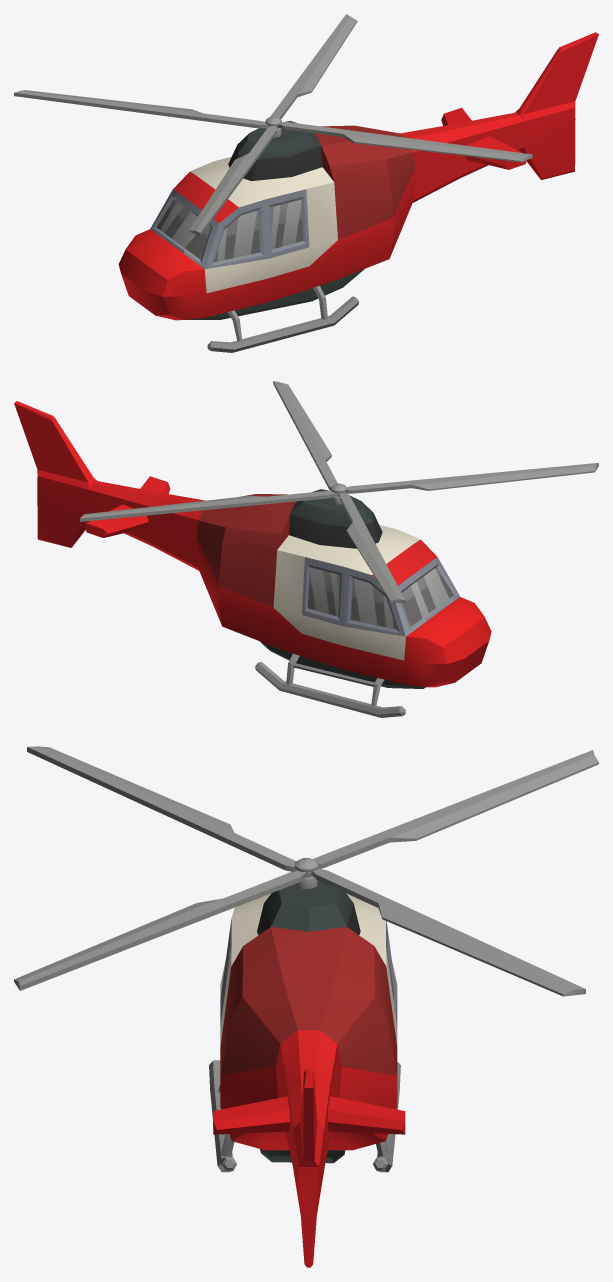
The model's file is Helicopter_2_B.fbx.
3 views of the same model, one above another, from view 1: azimuth 30°, elevation 25°; view 2: azimuth 150°, elevation 25°; view 3: azimuth 270°, elevation 25° (orthographic). The views are drawn at different scales.
Parts seen in each view (by area): view 1: Helicopter_2_B, Rotator_main; view 2: Helicopter_2_B, Rotator_main; view 3: Helicopter_2_B, Rotator_main.
Boxes of the visible parts, x1,y1,x2,y2 form: Helicopter_2_B: [118, 32, 598, 352]; Rotator_main: [14, 14, 532, 236]; Helicopter_2_B: [14, 401, 491, 717]; Rotator_main: [80, 381, 598, 603]; Helicopter_2_B: [209, 880, 405, 1267]; Rotator_main: [14, 746, 598, 996].
Bounding box in the file's own units: 1045 × 402 × 719.
